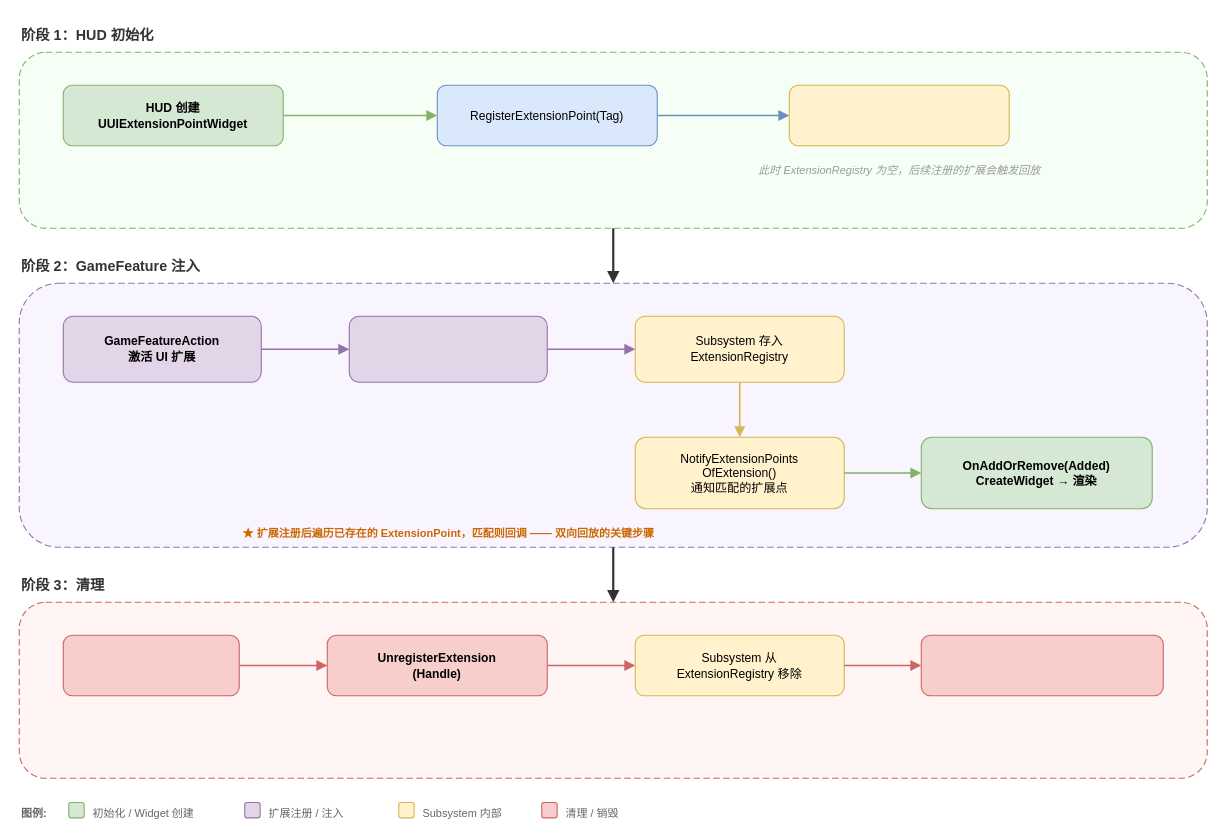
Image size: 1227x839. Some labels were removed from this diagram. The centre of each missing label's shape, as x and y in pixels:
GameFeature 停用: the point at 150,665
OnAddOrRemove(Removed) 销毁 Widget + 清理 Mapping: the point at 1041,665
RegisterExtension (Tag, Data): the point at 447,348
Subsystem 存入 ExtensionPointRegistry: the point at 898,115
